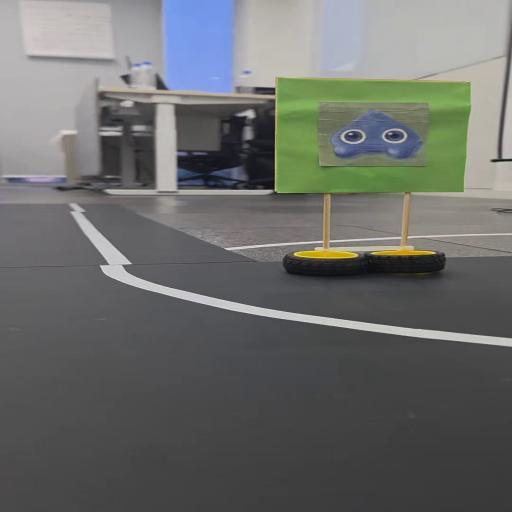Sign_B: (275, 76, 471, 284)
